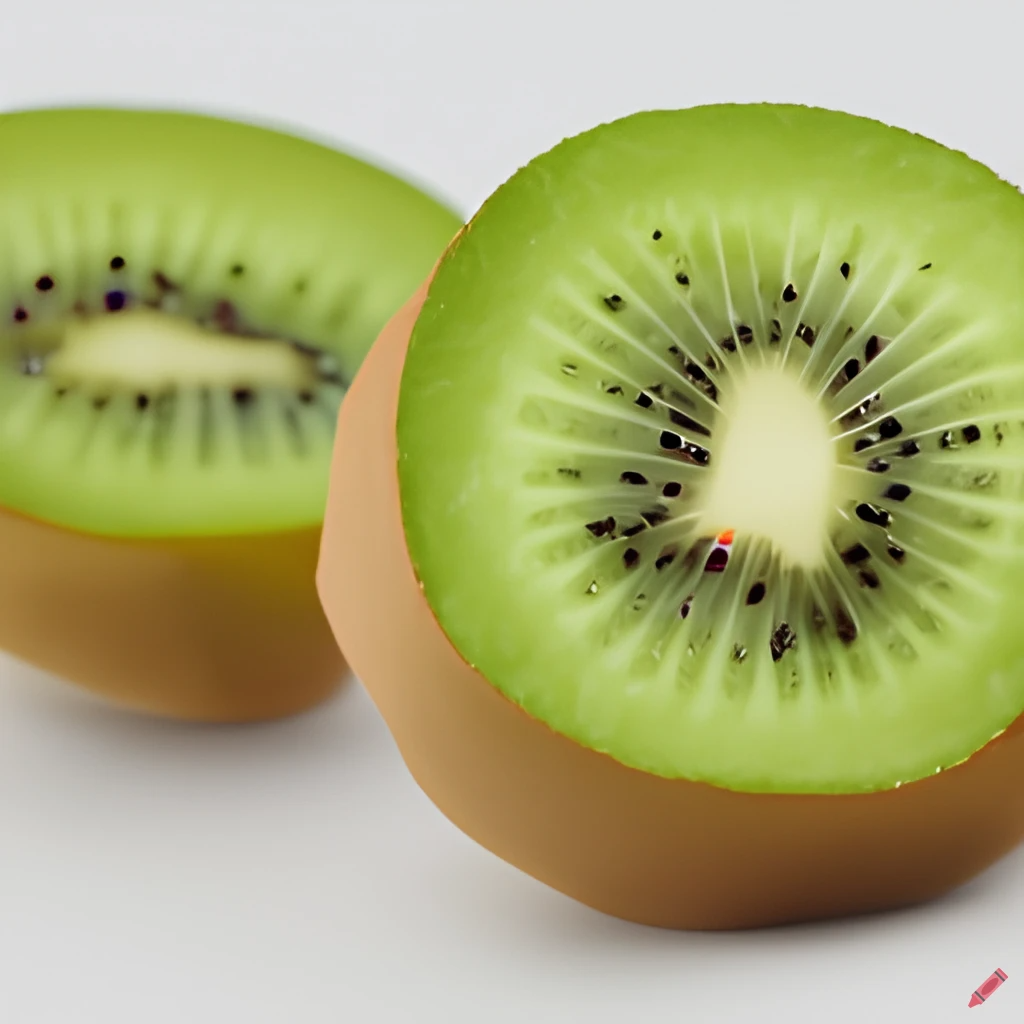Kiwi: (318, 77, 1024, 918)
